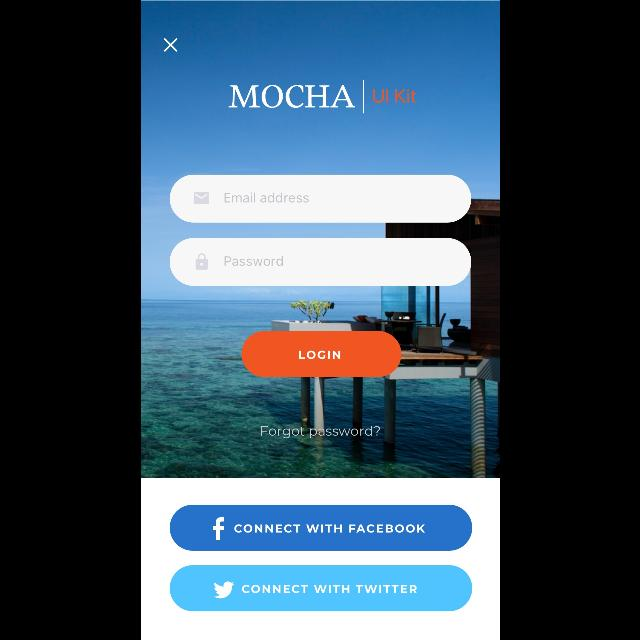icon: (163, 38, 177, 52), (195, 254, 207, 270), (194, 192, 208, 204)
image: (140, 0, 500, 478)
input: (169, 175, 471, 223), (169, 238, 471, 286)
text: (228, 85, 354, 108), (260, 426, 380, 438), (224, 193, 308, 203), (372, 89, 416, 103), (224, 256, 282, 266)
textbutton: (168, 505, 472, 551), (170, 565, 472, 611), (241, 331, 401, 377)
